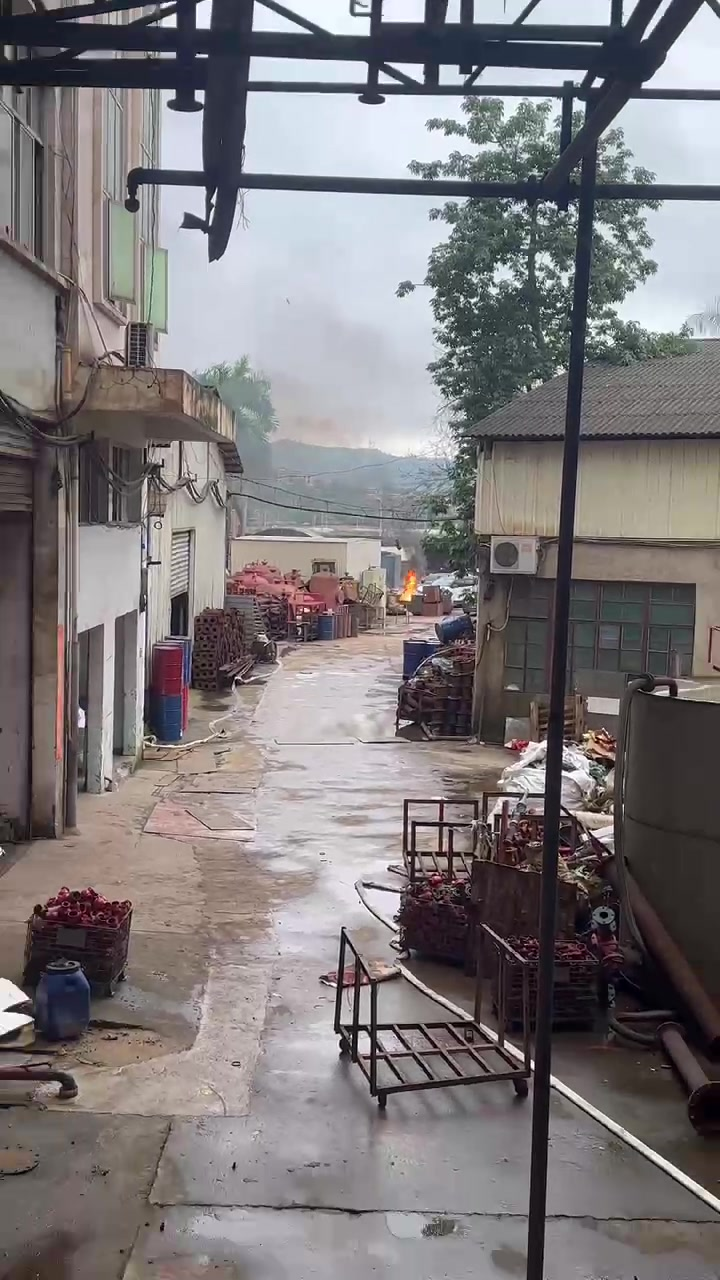fire: (398, 568, 415, 599)
